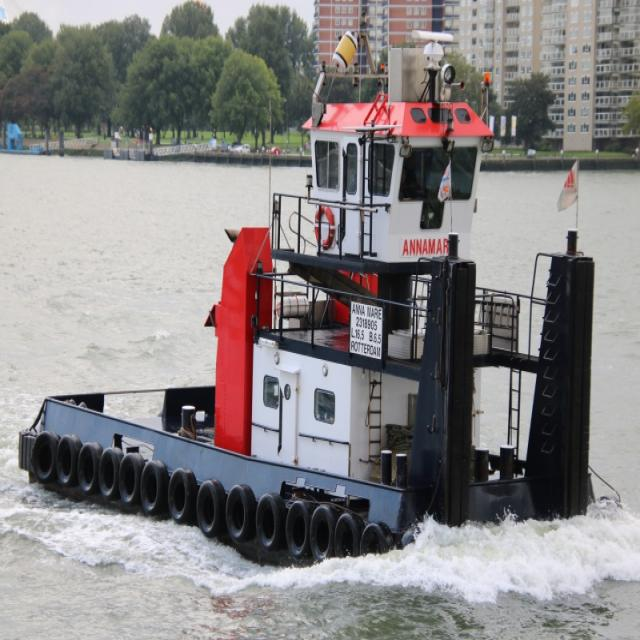tugboat: (14, 23, 607, 603)
